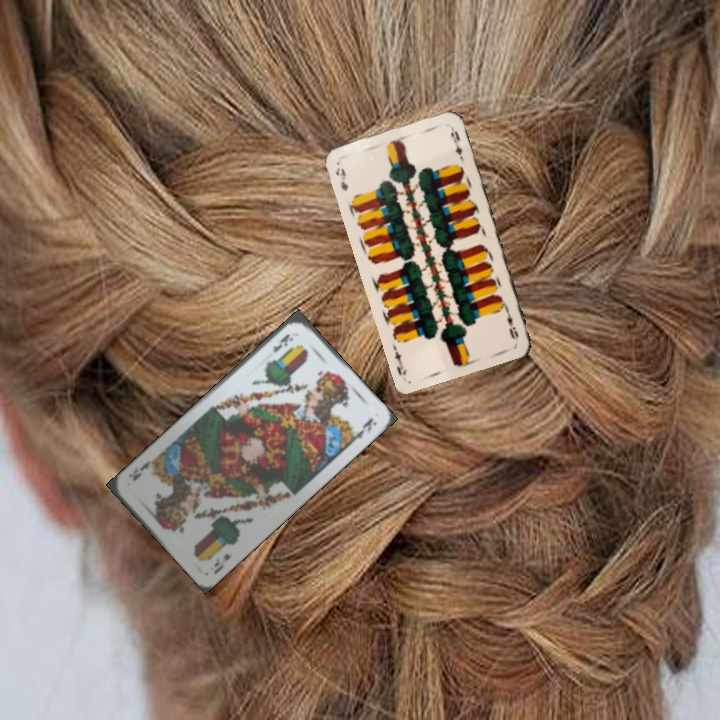E9: (501, 304, 521, 343), (332, 164, 351, 194)
EK: (209, 549, 235, 577), (269, 330, 296, 356)
